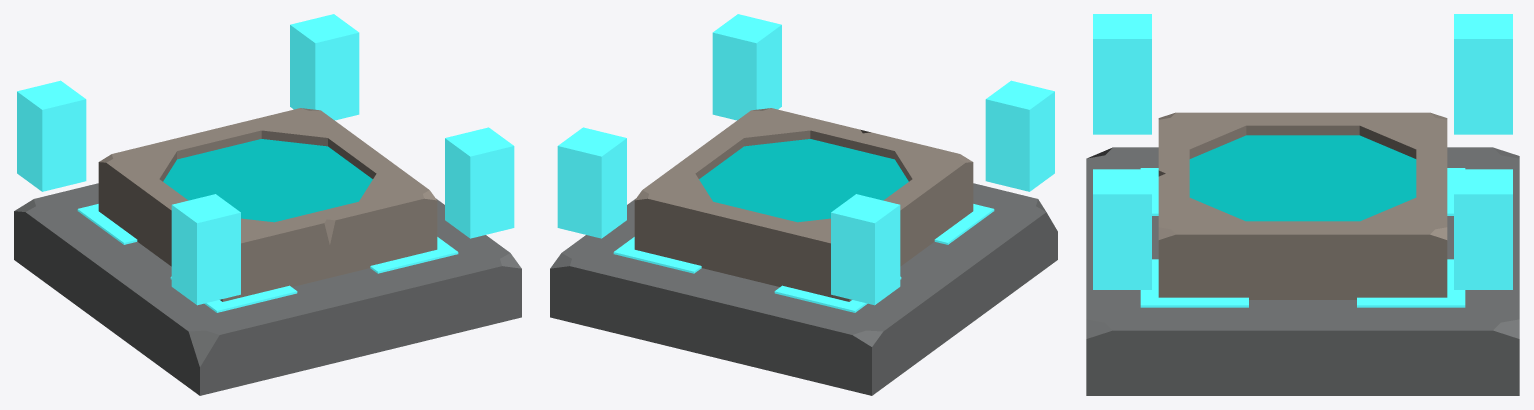
Rendered from silver_join_area.gltf.
The picture shows the model from 3 angles, left to right: view 1: azimuth 30°, elevation 25°; view 2: azimuth 150°, elevation 25°; view 3: azimuth 270°, elevation 25°; orthographic projection. The views are drawn at different scales.
Visible parts, largest first — view 1: Plane.032, Plane.144, Plane.101, Plane.102, Plane.086, Plane.073; view 2: Plane.032, Plane.086, Plane.102, Plane.144, Plane.101, Plane.073; view 3: Plane.032, Plane.086, Plane.102, Plane.144, Plane.101, Plane.073.
Boxes of the visible parts, x1,y1,x2,y2 form: Plane.032: [14, 108, 521, 395]; Plane.144: [17, 80, 86, 191]; Plane.101: [445, 127, 514, 238]; Plane.102: [171, 194, 240, 305]; Plane.086: [290, 14, 359, 120]; Plane.073: [77, 204, 458, 312]; Plane.032: [550, 108, 1057, 395]; Plane.086: [557, 127, 626, 238]; Plane.102: [985, 80, 1054, 191]; Plane.144: [831, 194, 900, 305]; Plane.101: [712, 14, 781, 120]; Plane.073: [613, 204, 994, 312]; Plane.032: [1086, 112, 1519, 395]; Plane.086: [1454, 169, 1512, 289]; Plane.102: [1093, 14, 1151, 134]; Plane.144: [1454, 14, 1512, 134]; Plane.101: [1093, 169, 1151, 289]; Plane.073: [1140, 168, 1465, 307].
Size of what is drawn, in the model's own units: 6 by 3.04 by 6.
Materials: 4 (1 with a texture image).
